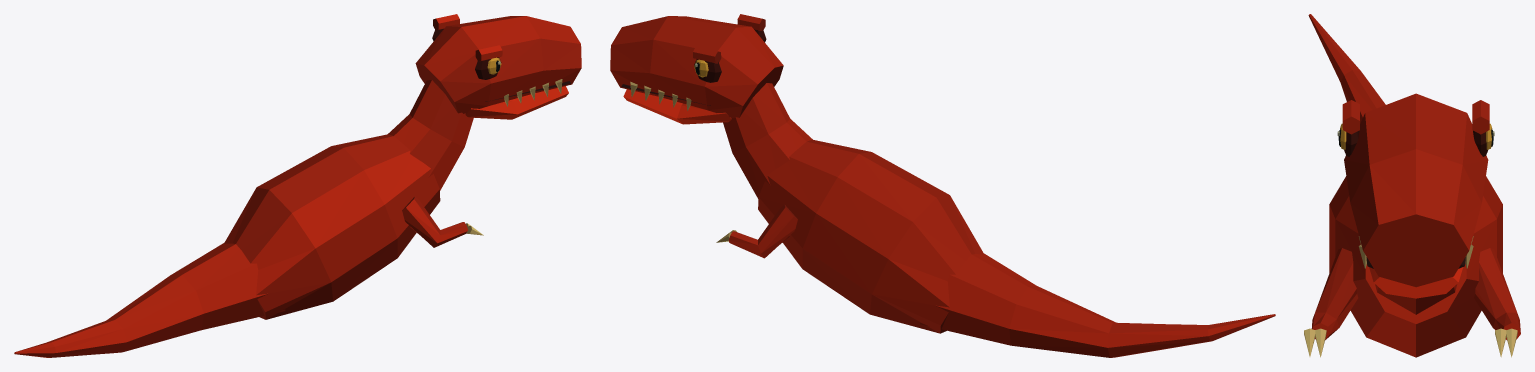
The model's file is SM_tyrannosaurus_Body.fbx.
3 views of the same model, side by side, from view 1: azimuth 30°, elevation 25°; view 2: azimuth 150°, elevation 25°; view 3: azimuth 270°, elevation 25° (orthographic). The views are drawn at different scales.
Parts seen in each view (by area): view 1: SM_tyrannosaurus_Body export; view 2: SM_tyrannosaurus_Body export; view 3: SM_tyrannosaurus_Body export.
Part boxes in pixels (bbox=[...]): SM_tyrannosaurus_Body export: bbox=[14, 14, 581, 357]; SM_tyrannosaurus_Body export: bbox=[610, 14, 1275, 357]; SM_tyrannosaurus_Body export: bbox=[1304, 14, 1520, 357].
Size of the model in its own units: 976 by 204 by 377.
